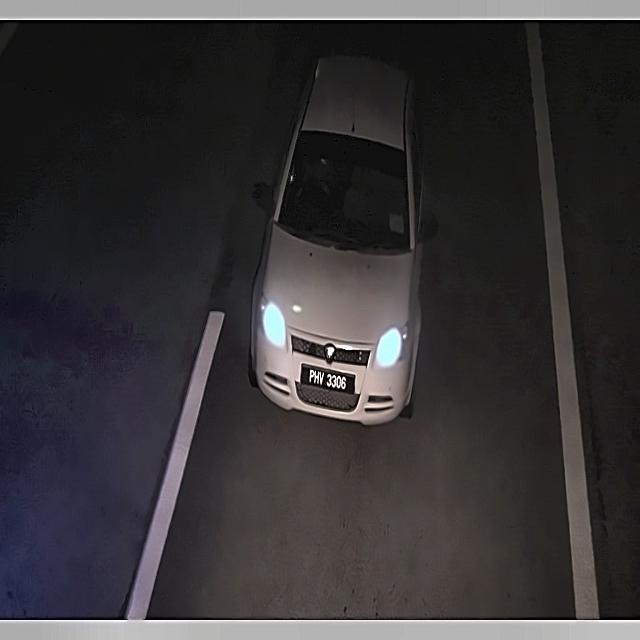car: (298, 351, 359, 402)
